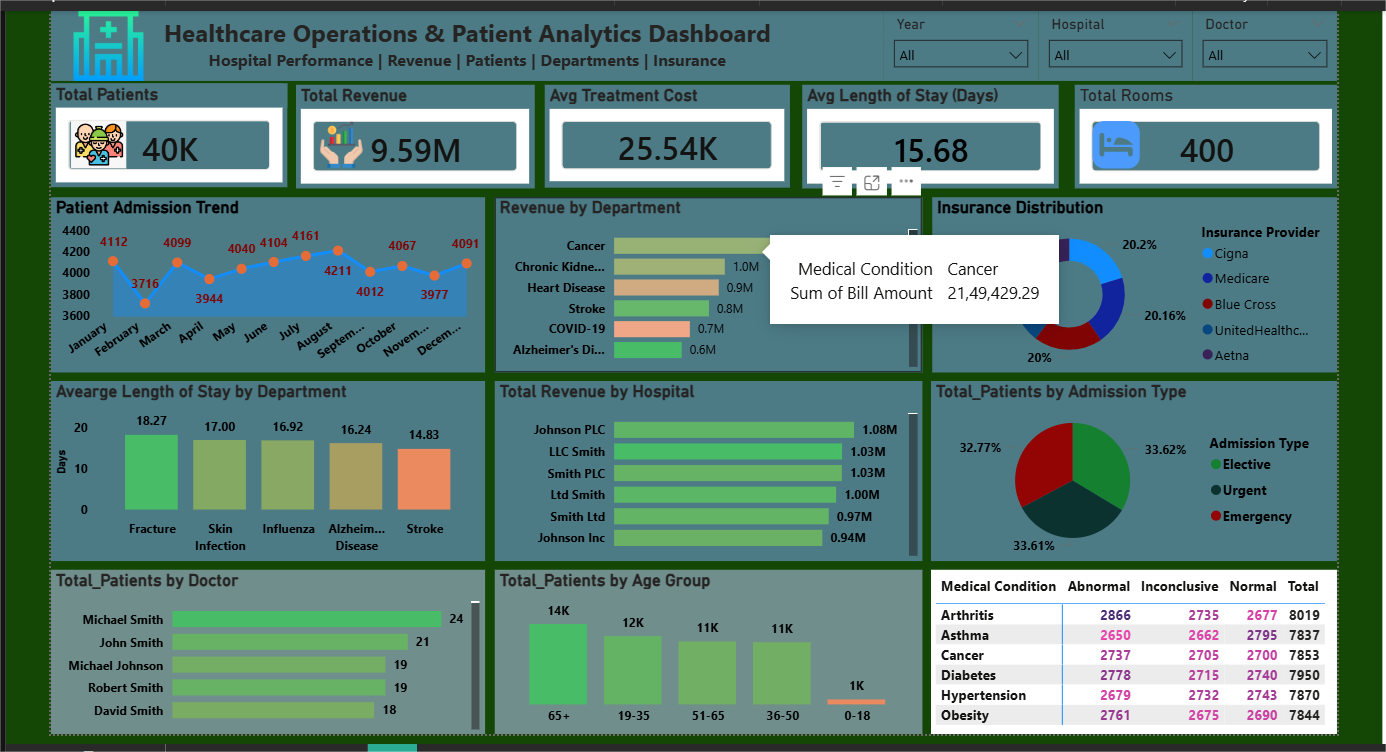

Layout of this report page (visuals, bound fields, positions):
{"tool":"powerbi","page":{"name":"Healthcare Dashboard","canvas":[1280,720],"ordinal":0},"visuals":[{"type":"textbox","box":[0,0,828.5,69.7],"z":0},{"type":"image","box":[0,0,114.4,69.7],"z":1000},{"type":"slicer","fields":{"Values":["healthcare_dataset.Date of Admission.Variation.Date Hierarchy.Year"]},"box":[828.5,0,154.3,69.7],"z":2000},{"type":"slicer","fields":{"Values":["healthcare_dataset.Hospital"]},"box":[982.7,0,153,69.7],"z":3000},{"type":"slicer","fields":{"Values":["healthcare_dataset.Doctor"]},"box":[1135.7,0,144.3,69.7],"z":4000},{"type":"cardVisual","title":"Total Patients","fields":{"Data":["healthcare_dataset.Total_Patients"]},"box":[0,72.1,235.1,103.2],"z":5000},{"type":"cardVisual","title":"Total Revenue","fields":{"Data":["Sum(hospital_records_2021_2024_with_bills.Bill Amount)"]},"box":[243.8,73.4,237.6,103.2],"z":6000},{"type":"cardVisual","title":"Avg Treatment Cost","fields":{"Data":["Avg(healthcare_dataset.Billing Amount)"]},"box":[491.4,73.4,243.8,102],"z":7000},{"type":"cardVisual","title":"Avg Length of Stay (Days)","fields":{"Data":["Avg(Hospital Dataset.Length of Stay)"]},"box":[747.6,73.4,255,103.2],"z":8000},{"type":"cardVisual","title":"Total Rooms","fields":{"Data":["Count(healthcare_dataset.Room Number)"]},"box":[1018.8,73.4,261.2,103.2],"z":9000},{"type":"areaChart","title":"Patient Admission Trend","fields":{"Category":["healthcare_dataset.Date of Admission.Variation.Date Hierarchy.Month"],"Y":["healthcare_dataset.Total_Patients"]},"box":[0,185.3,431.7,174.2],"z":10000},{"type":"barChart","title":"Revenue by Department","fields":{"Category":["Hospital Dataset.Medical Condition"],"Y":["Sum(Hospital Dataset.Bill Amount)"]},"box":[441.6,185.3,425.4,174.2],"z":11000},{"type":"donutChart","title":"Insurance Distribution","fields":{"Category":["healthcare_dataset.Insurance Provider"],"Y":["healthcare_dataset.Total_Patients"]},"box":[877,185.3,403,174.2],"z":12000},{"type":"clusteredColumnChart","title":"Avearge Length of Stay by Department","fields":{"Y":["Avg(Hospital Dataset.Length of Stay)"],"Category":["Hospital Dataset.Medical Condition"]},"box":[0,368.2,431.7,179.1],"z":13000},{"type":"clusteredBarChart","fields":{"Category":["healthcare_dataset.Hospital"],"Y":["healthcare_dataset.Total Revenue"]},"box":[441.6,368.2,425.4,179.1],"z":14000},{"type":"pieChart","fields":{"Y":["healthcare_dataset.Total_Patients"],"Category":["healthcare_dataset.Admission Type"]},"box":[875.7,368.2,404.3,179.1],"z":15000},{"type":"clusteredBarChart","fields":{"Category":["healthcare_dataset.Doctor"],"Y":["healthcare_dataset.Total_Patients"]},"box":[0,556,431.7,164.2],"z":16000},{"type":"columnChart","fields":{"Category":["healthcare_dataset.Age Group"],"Y":["healthcare_dataset.Total_Patients"]},"box":[441.6,556,425.4,164.2],"z":17000},{"type":"pivotTable","fields":{"Rows":["healthcare_dataset.Medical Condition"],"Columns":["healthcare_dataset.Test Results"],"Values":["healthcare_dataset.Total_Patients"]},"box":[876,556,404,164],"z":18000},{"type":"image","box":[14.9,109.5,64.7,47.3],"z":19000},{"type":"image","box":[263.7,109.5,49.8,47.3],"z":20000},{"type":"image","box":[1030,109.5,59.7,47.3],"z":21000}]}

Visuals, with their boxes in screenshot pixels (x1, y1, x2, y2):
textbox: [61,11,883,80]
image: [61,11,175,80]
slicer - healthcare_dataset.Date of Admission.Variation.Date Hierarchy.Year: [883,11,1036,80]
slicer - healthcare_dataset.Hospital: [1036,11,1188,80]
slicer - healthcare_dataset.Doctor: [1188,11,1331,80]
"Total Patients" cardVisual: [61,82,295,185]
"Total Revenue" cardVisual: [303,84,539,186]
"Avg Treatment Cost" cardVisual: [549,84,791,185]
"Avg Length of Stay (Days)" cardVisual: [803,84,1056,186]
"Total Rooms" cardVisual: [1072,84,1331,186]
"Patient Admission Trend" areaChart: [61,195,490,367]
"Revenue by Department" barChart: [499,195,921,367]
"Insurance Distribution" donutChart: [931,195,1331,367]
"Avearge Length of Stay by Department" clusteredColumnChart: [61,376,490,554]
clusteredBarChart - healthcare_dataset.Hospital x healthcare_dataset.Total Revenue: [499,376,921,554]
pieChart - healthcare_dataset.Total_Patients x healthcare_dataset.Admission Type: [930,376,1331,554]
clusteredBarChart - healthcare_dataset.Doctor x healthcare_dataset.Total_Patients: [61,562,490,725]
columnChart - healthcare_dataset.Age Group x healthcare_dataset.Total_Patients: [499,562,921,725]
pivotTable - healthcare_dataset.Medical Condition x healthcare_dataset.Test Results: [930,562,1331,725]
image: [76,119,140,166]
image: [323,119,372,166]
image: [1083,119,1142,166]
